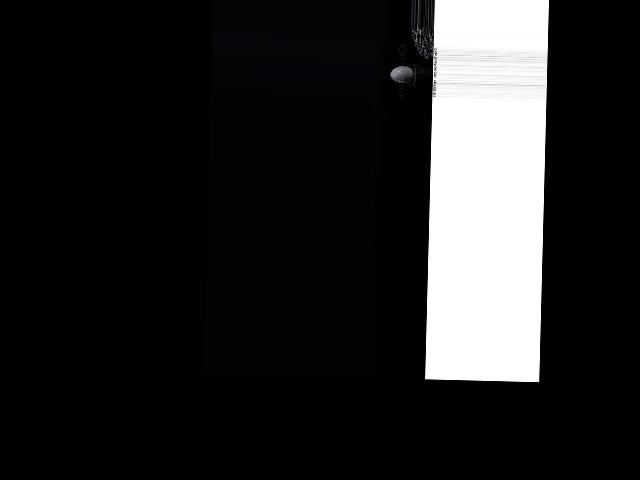egg: (390, 65, 414, 83)
